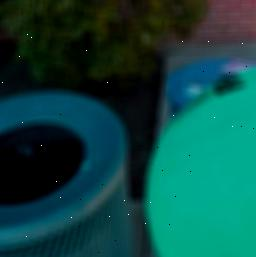algae: (149, 66, 256, 257)
